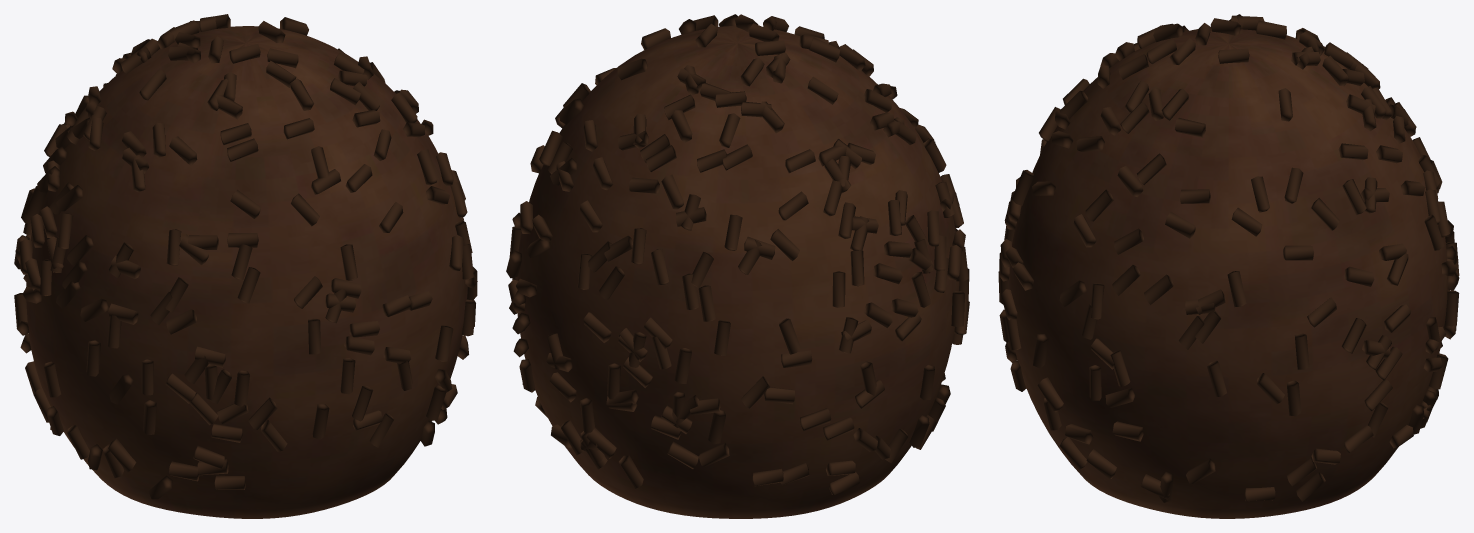
The model's file is brigadeiro.glb.
The picture shows the model from 3 angles, left to right: view 1: azimuth 30°, elevation 25°; view 2: azimuth 150°, elevation 25°; view 3: azimuth 270°, elevation 25°; orthographic projection.
Visible parts, largest first — view 1: brigadeiro; view 2: brigadeiro; view 3: brigadeiro.
Boxes of the visible parts, x1,y1,x2,y2 form: brigadeiro: [14, 14, 477, 518]; brigadeiro: [506, 14, 969, 518]; brigadeiro: [998, 14, 1459, 518].
Size of the model in its own units: 0.03 by 0.03 by 0.03.
2 materials, 2 textured.
